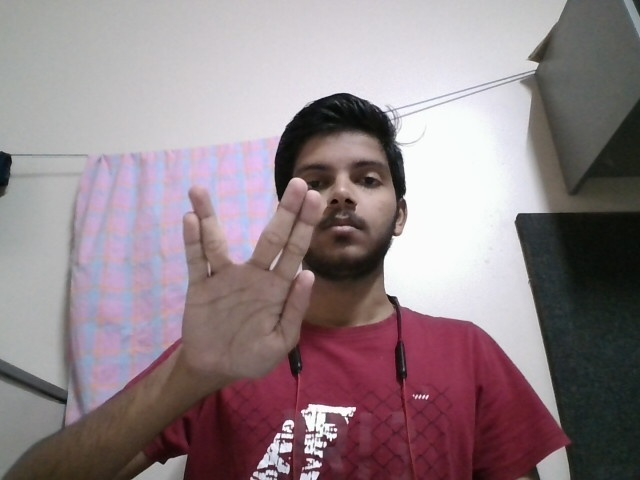Live Long: (168, 173, 324, 382)
